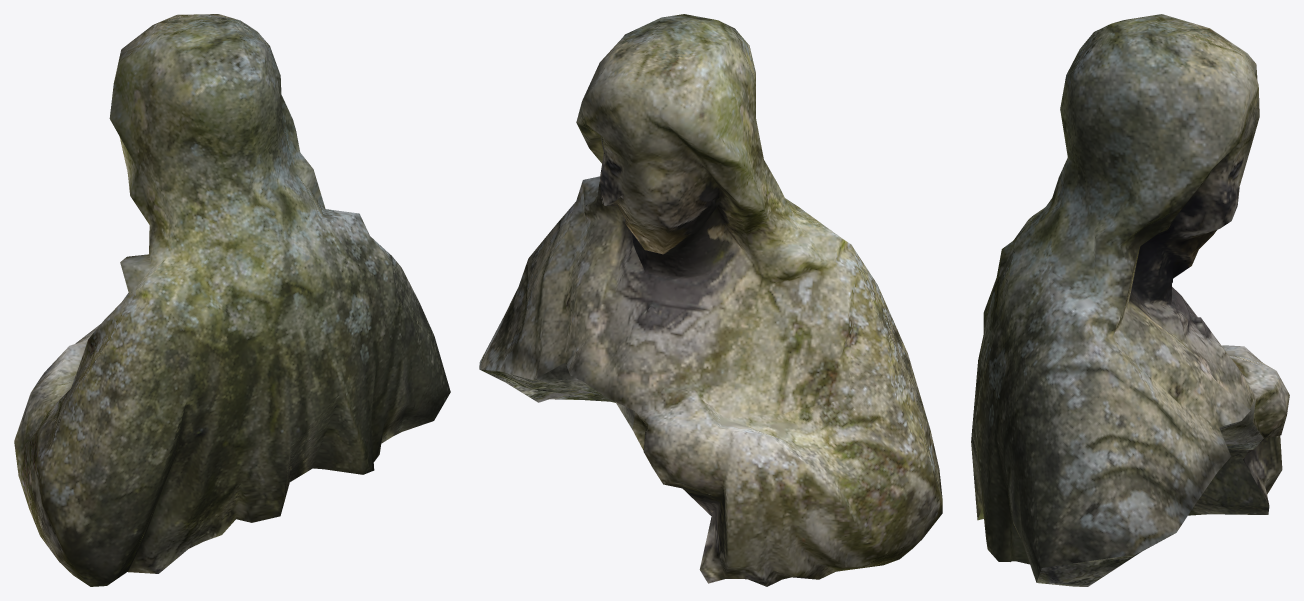
Rendered from SM_GraveSculpture_01_05.fbx.
The picture shows the model from 3 angles, left to right: view 1: azimuth 30°, elevation 25°; view 2: azimuth 150°, elevation 25°; view 3: azimuth 270°, elevation 25°; orthographic projection. The views are drawn at different scales.
Parts seen in each view (by area): view 1: sm_GraveSculpture_01_05_LOD0; view 2: sm_GraveSculpture_01_05_LOD0; view 3: sm_GraveSculpture_01_05_LOD0.
Boxes of the visible parts, <box> form: sm_GraveSculpture_01_05_LOD0: <box>14,14,450,586</box>; sm_GraveSculpture_01_05_LOD0: <box>479,14,942,586</box>; sm_GraveSculpture_01_05_LOD0: <box>971,14,1289,586</box>.
Bounding box in the file's own units: 40.81 × 66.46 × 79.58.
